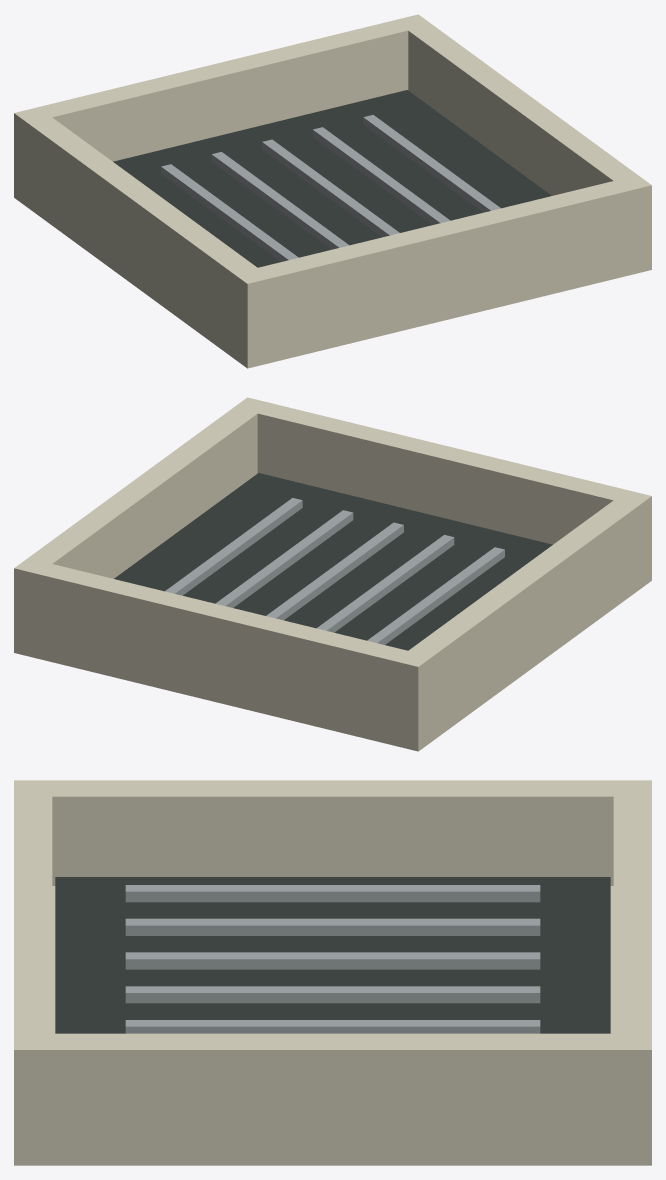
The model's file is roadside-survival-stops-service-floor-sump-67a69e57__23552.glb.
3 views of the same model, one above another, from view 1: azimuth 30°, elevation 25°; view 2: azimuth 150°, elevation 25°; view 3: azimuth 270°, elevation 25° (orthographic). The views are drawn at different scales.
Visible parts, largest first — view 1: service-floor-sump; view 2: service-floor-sump; view 3: service-floor-sump.
Boxes of the visible parts, bbox=[...] form: service-floor-sump: bbox=[14, 14, 651, 368]; service-floor-sump: bbox=[14, 397, 651, 751]; service-floor-sump: bbox=[14, 780, 651, 1165].
Bounding box in the file's own units: 1 × 0.2 × 1.
